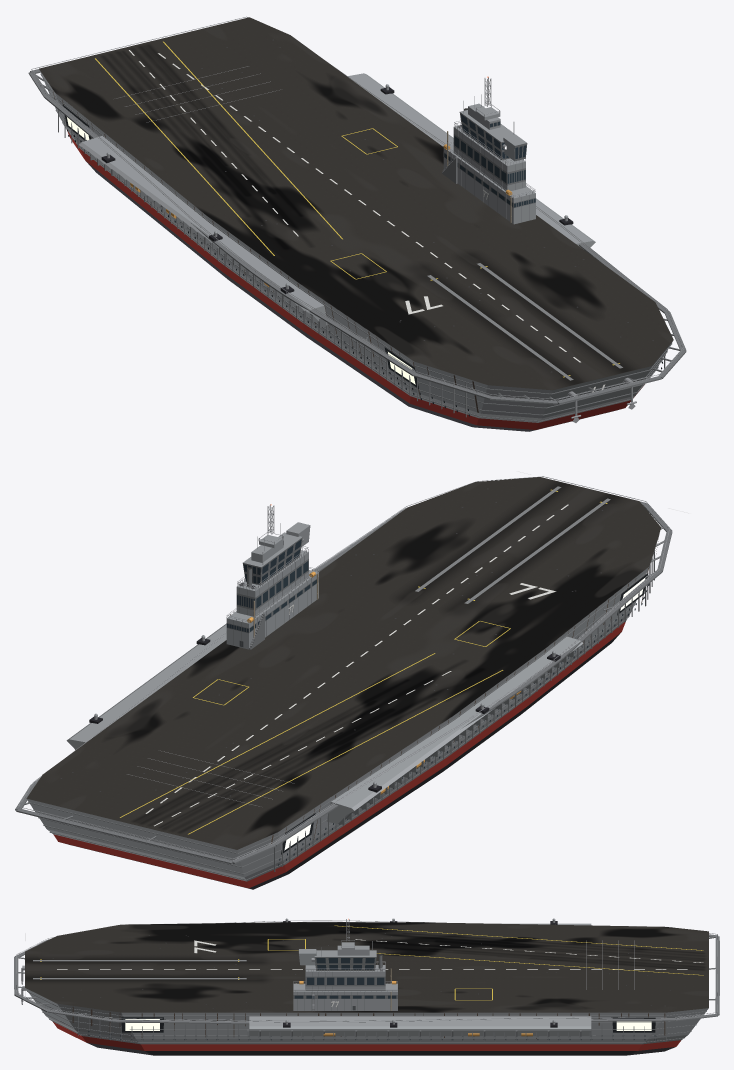
File: map_carrier.glb
The picture shows the model from 3 angles, top to bottom: view 1: azimuth 30°, elevation 25°; view 2: azimuth 150°, elevation 25°; view 3: azimuth 270°, elevation 25°; orthographic projection. The views are drawn at different scales.
Visible parts, largest first — view 1: Ground_deck, Ground_stains, Hull_details, Hull, Island, Ground_deck_marks; view 2: Ground_deck, Ground_stains, Hull_details, Hull, Island, Ground_deck_marks; view 3: Ground_deck, Ground_stains, Hull, Hull_details, Island, Ground_deck_marks.
Part boxes in pixels (x1=…): Ground_deck: x1=39, y1=17, x2=673, y2=390; Ground_stains: x1=44, y1=25, x2=673, y2=389; Hull_details: x1=28, y1=16, x2=686, y2=422; Hull: x1=39, y1=69, x2=672, y2=431; Island: x1=442, y1=76, x2=535, y2=224; Ground_deck_marks: x1=95, y1=39, x2=653, y2=380; Ground_deck: x1=26, y1=477, x2=661, y2=849; Ground_stains: x1=42, y1=481, x2=653, y2=848; Hull_details: x1=15, y1=476, x2=672, y2=880; Hull: x1=27, y1=567, x2=648, y2=889; Island: x1=226, y1=504, x2=319, y2=649; Ground_deck_marks: x1=60, y1=486, x2=610, y2=834; Ground_deck: x1=25, y1=922, x2=708, y2=1012; Ground_stains: x1=25, y1=922, x2=708, y2=1012; Hull: x1=25, y1=988, x2=708, y2=1055; Hull_details: x1=14, y1=918, x2=719, y2=1042; Island: x1=293, y1=918, x2=397, y2=1010; Ground_deck_marks: x1=33, y1=925, x2=703, y2=1008.
Bounding box in the file's own units: 93.74 × 56.5 × 264.
Materials: 24 (2 with a texture image).
